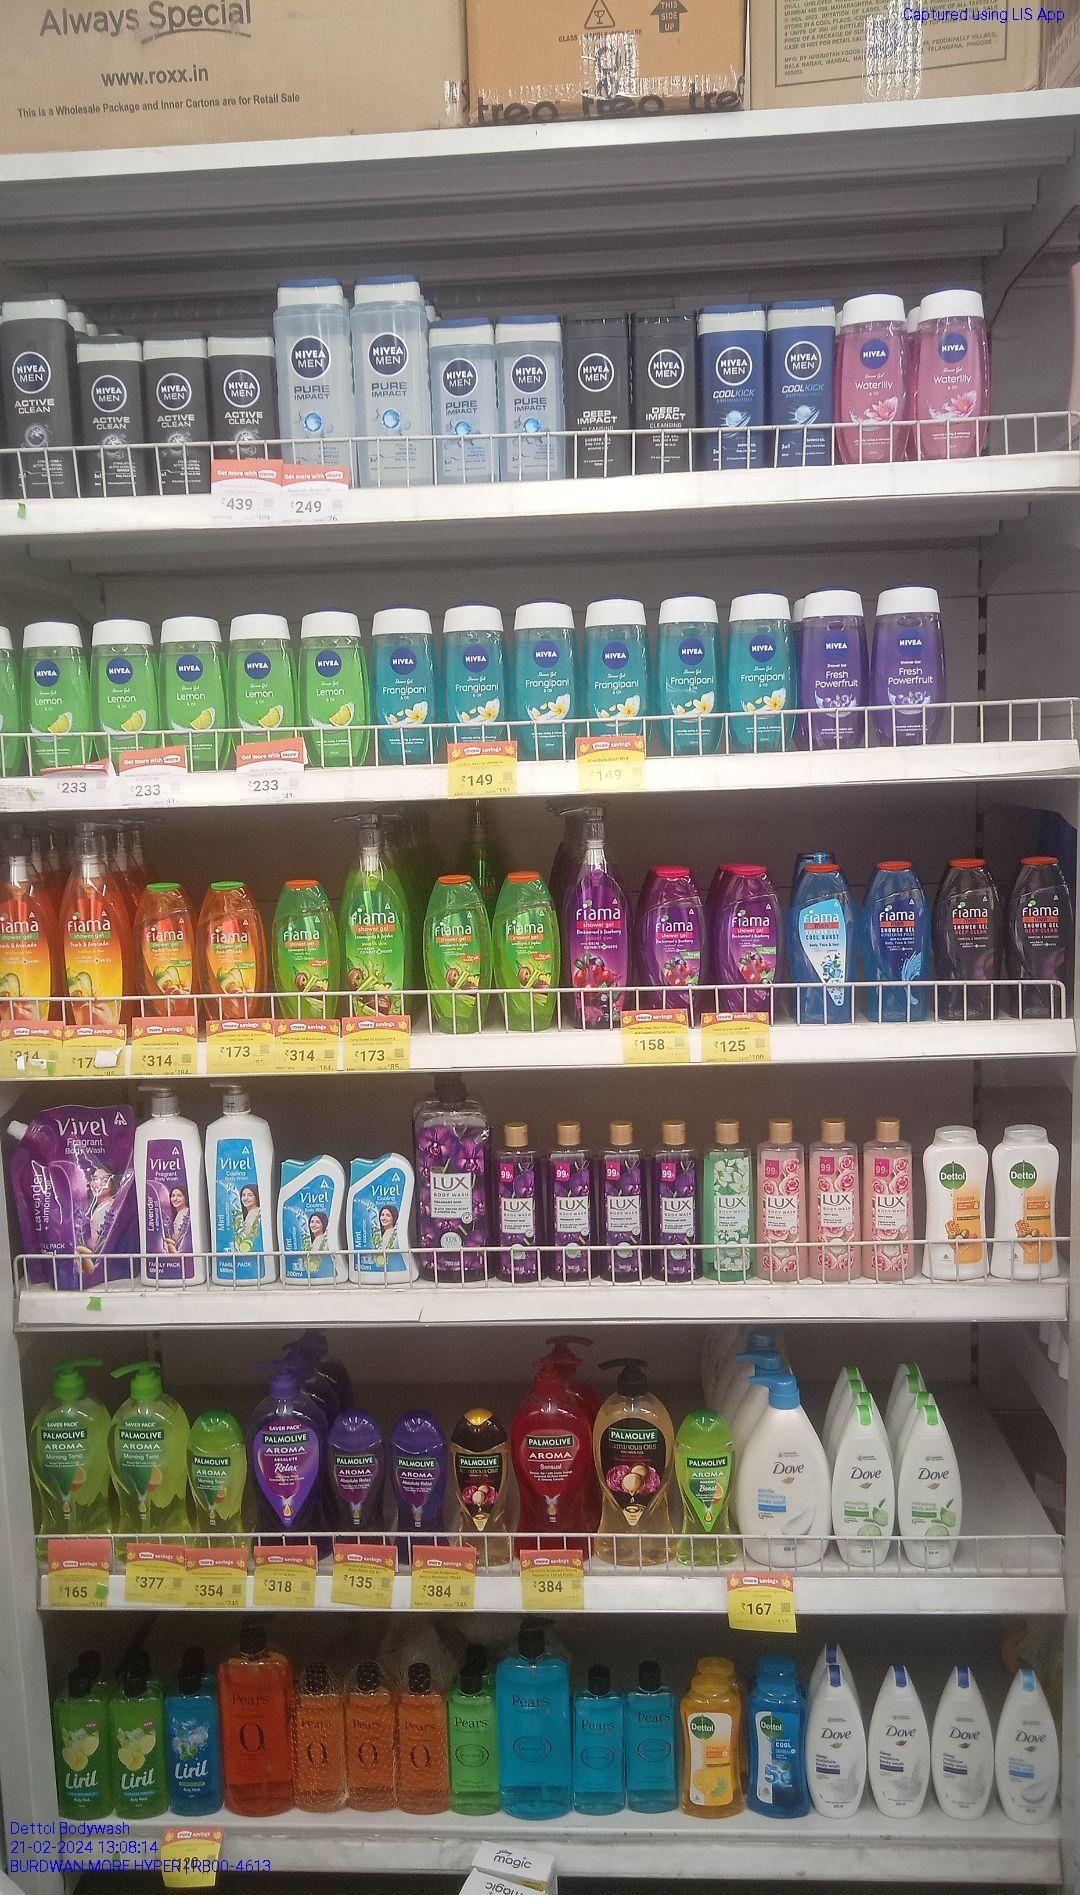Dettol_Bodywash_Cool: (747, 1672, 811, 1818)
Dettol_Bodywash_Refresh: (683, 1674, 743, 1820)
Dettol_Nourish_Body_Wash_250ML: (921, 1122, 990, 1277), (994, 1122, 1060, 1278)
Dove_Deep_Moisture_Body_Wash_250ML: (933, 1671, 995, 1814), (815, 1667, 868, 1818), (873, 1669, 928, 1813)
Dove_Gentle_Exfoliating_Body_Wash_250ML: (998, 1671, 1060, 1820)
Dove_Refreshing_Body_Wash_250ML: (898, 1403, 962, 1566), (833, 1406, 895, 1566)
Fiama_Shower_Gel_Lemongrass_and_Jojoba_250ML: (491, 871, 562, 1033), (425, 868, 485, 1027), (273, 879, 337, 1022)
Fiama_Shower_Gel_Peach_and_Avocado_250ML: (203, 877, 263, 1023), (135, 881, 194, 1014)
Liril_Cooling_Mint_Body_Wash_250ML: (170, 1667, 224, 1814)
Liril_Lime_and_Tea_Tree_Oil_Body_Wash_250ML: (51, 1665, 109, 1821), (112, 1667, 164, 1816)
Lux_Black_Orchid_Scent_and_Juniper_Oil_Body_Wash_245ML: (651, 1113, 704, 1282), (548, 1115, 596, 1281), (491, 1126, 540, 1282), (600, 1121, 645, 1282)
Lux_Body_Wash_Skin_Detox_Freesia_Scent_and_Alove_Vera_245ML: (707, 1121, 755, 1283)
Nivea_Shower_Gel_Frangipani_and_Oil_250ML: (729, 579, 791, 750), (513, 597, 576, 754), (371, 613, 436, 760), (660, 591, 717, 754), (440, 608, 507, 739), (586, 601, 648, 741)
Nivea_Shower_Gel_Fresh_Powerfruit_250ML: (874, 586, 949, 743), (807, 584, 868, 744)
Nivea_Shower_Gel_Lemon_and_Oil_250ML: (295, 608, 368, 761), (157, 618, 232, 748), (25, 618, 88, 759), (95, 616, 155, 744), (237, 609, 291, 733)
Nivea_Shower_Gel_Waterlily_and_Oil_250ML: (916, 297, 989, 457), (839, 294, 907, 465)
Palmolive_Aroma_Morning_Tonic_Shower_Gel_250ML: (189, 1407, 247, 1545)
Palmolive_Aroma_Relax_250ML: (393, 1417, 444, 1546), (334, 1416, 384, 1544)
Palmolive_Luminous_Oils_Invigorating_Macadamia_Oil_With_Peony_250ML: (453, 1412, 510, 1547)
Pears_Pure_Glycerin_and_Lemon_Flower_Extracts_Body_Wash_250ML: (450, 1667, 500, 1814)
Pears_Pure_Glycerin_and_Mint_Extracts_Body_Wash_250ML: (574, 1670, 625, 1820), (628, 1667, 679, 1812)
